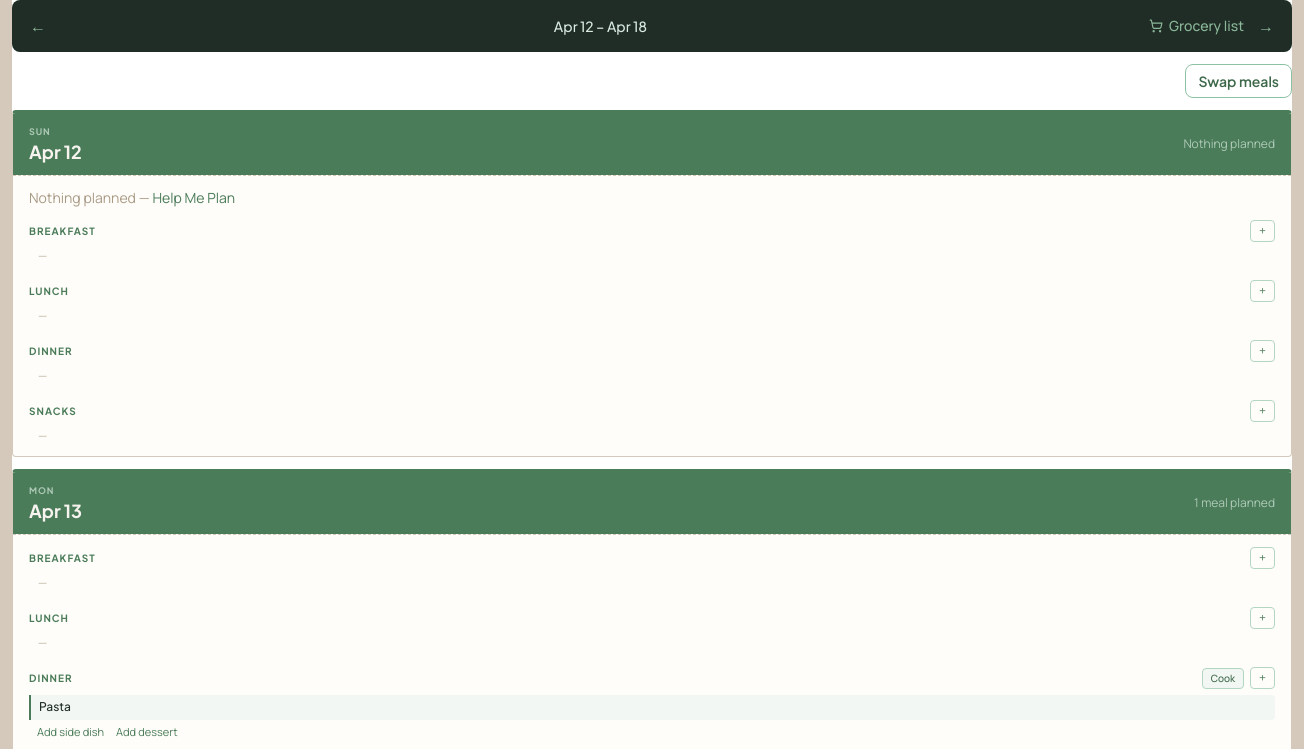
it: WeekCalendar - swap meals (regression #303) › shows error message and reverts entries on API failure
What coordinates should you click on to do the following:
click the button "Swap meals"
I would click on:
 (1239, 81)
Its box is [1185, 64, 1292, 98].
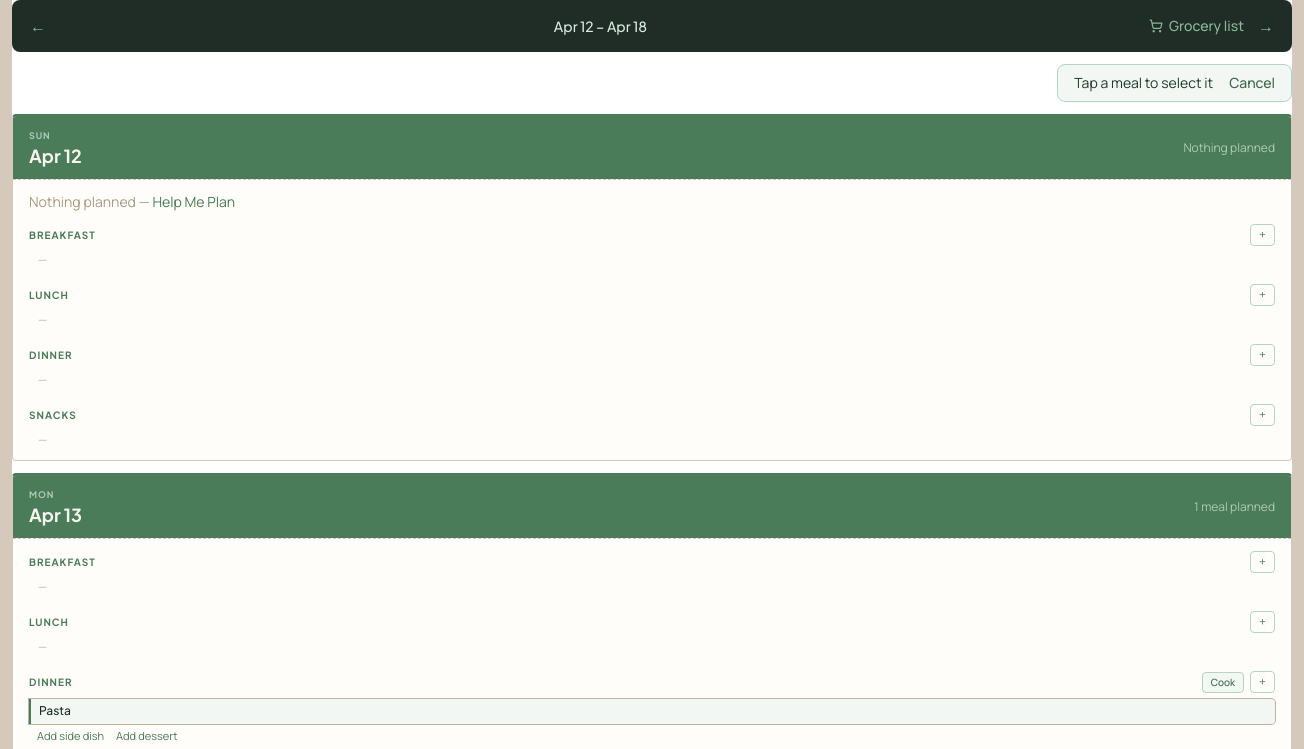
What coordinates should you click on to do the following:
click the text "Pasta"
I would click on:
 (652, 711)
Its box is [29, 699, 1275, 724].
(page scrolled)
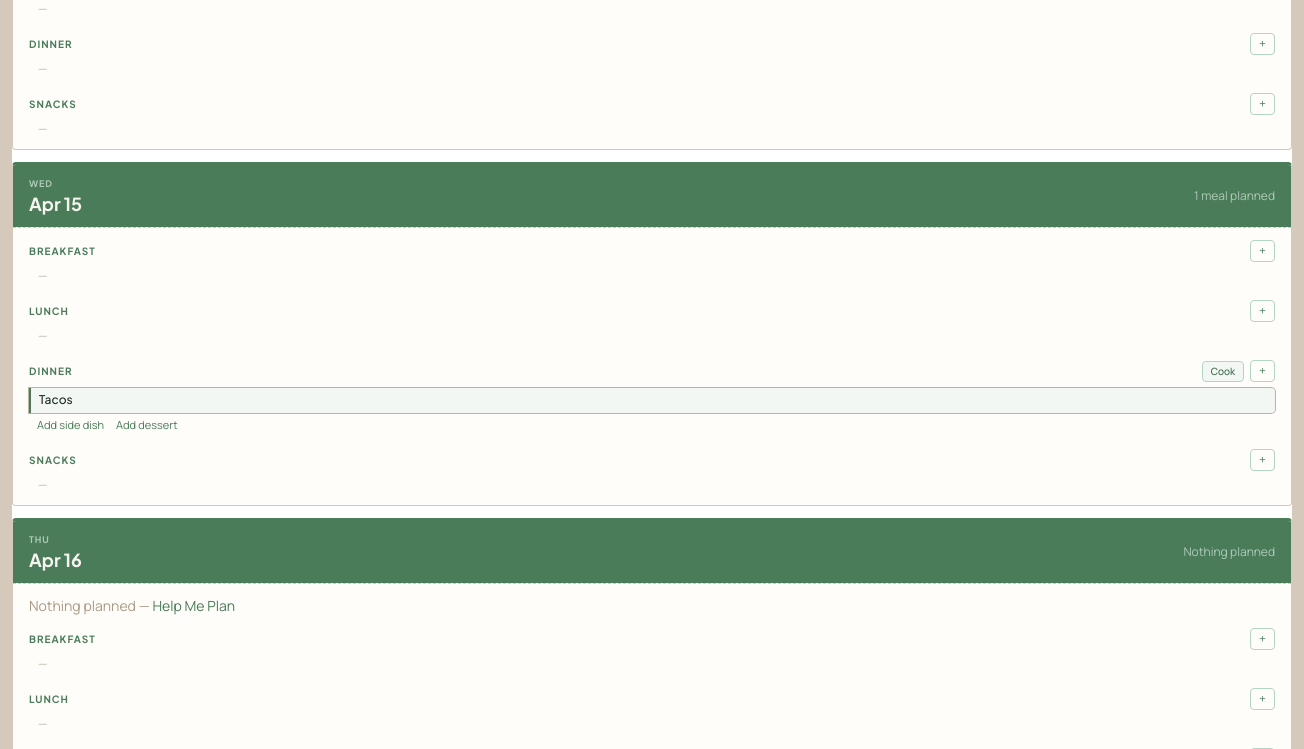
What coordinates should you click on to do the following:
click the text "Tacos"
I would click on:
 (652, 400)
Its box is [29, 388, 1275, 412].
(page scrolled)
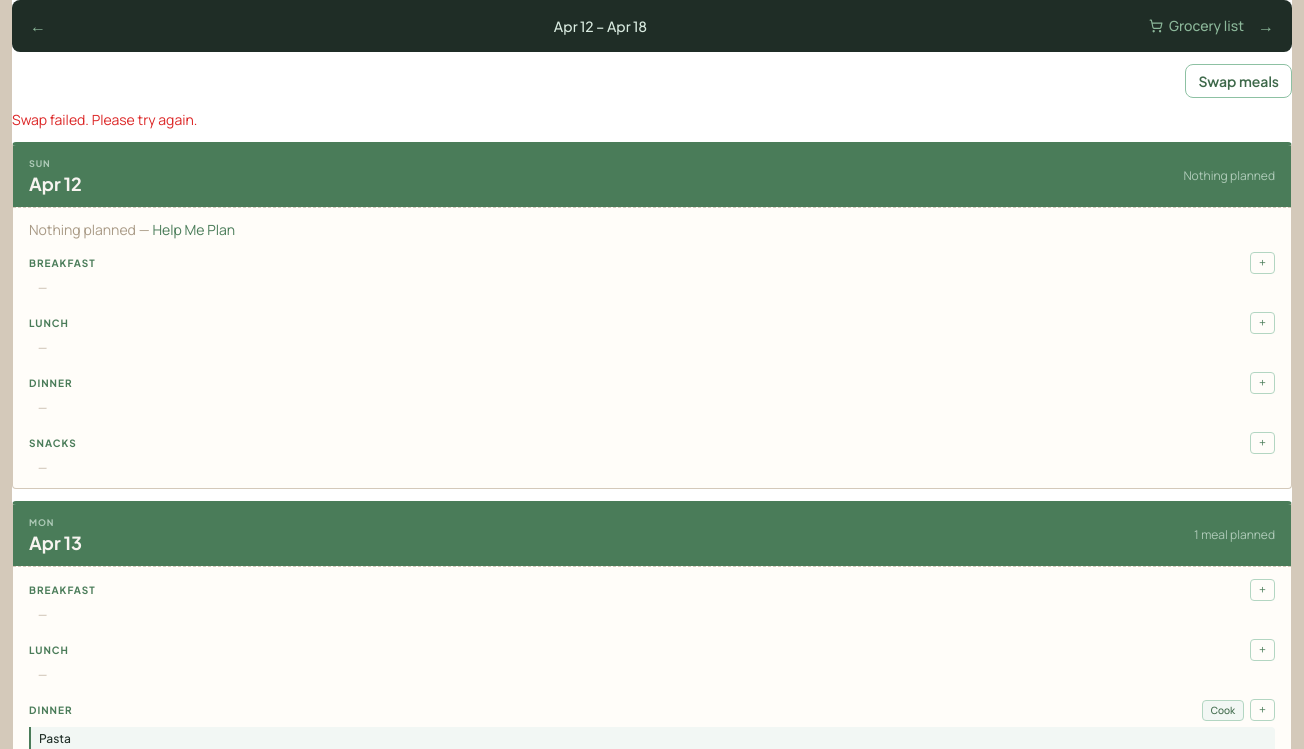
Check: the text "Swap failed. Please try again." is shown, box [12, 110, 197, 129]
